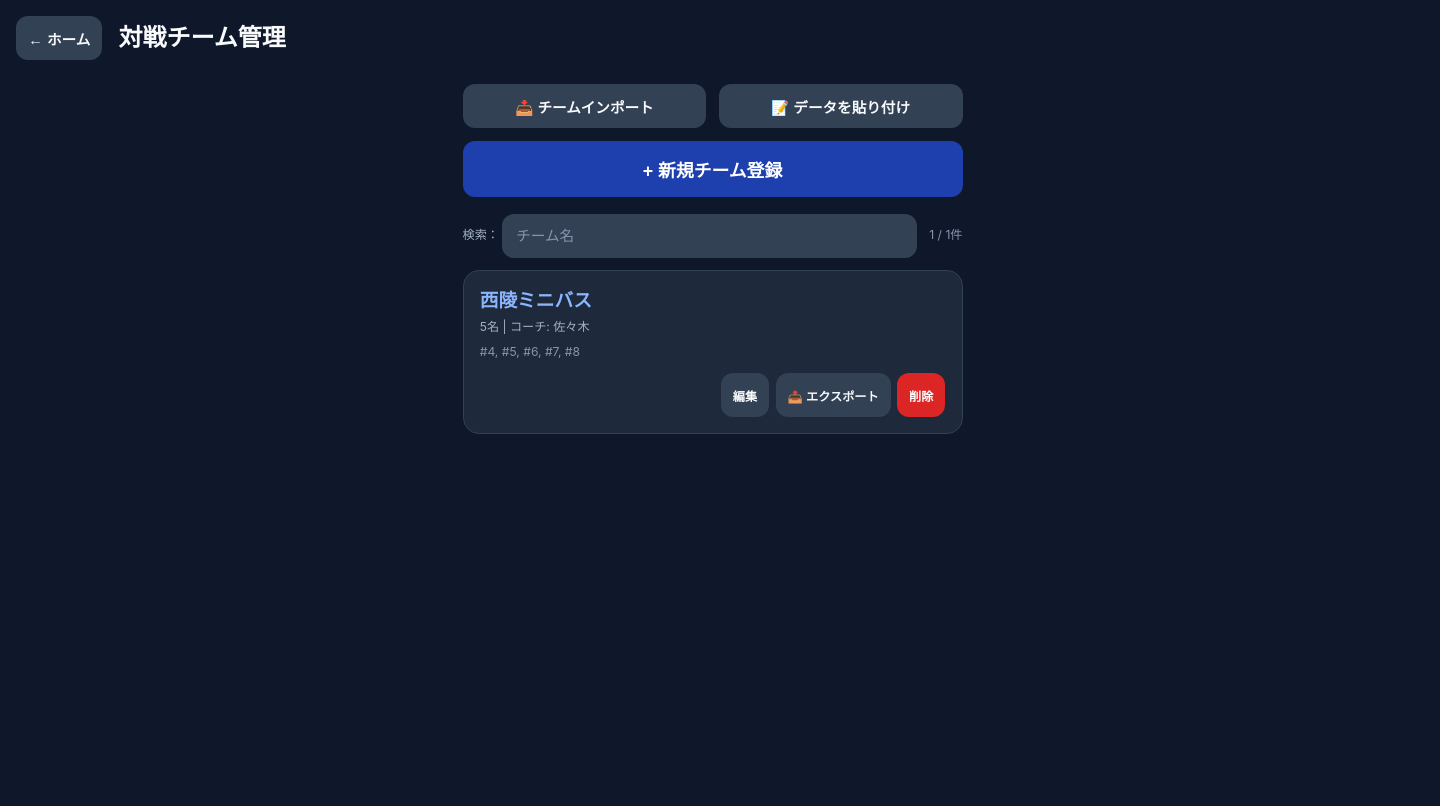
OpponentManager: 保存時の検証 › 条件を満たせば保存され、一覧に戻る
The image size is (1440, 806).
Click the button "編集" at (745, 395), box [721,373,769,417]
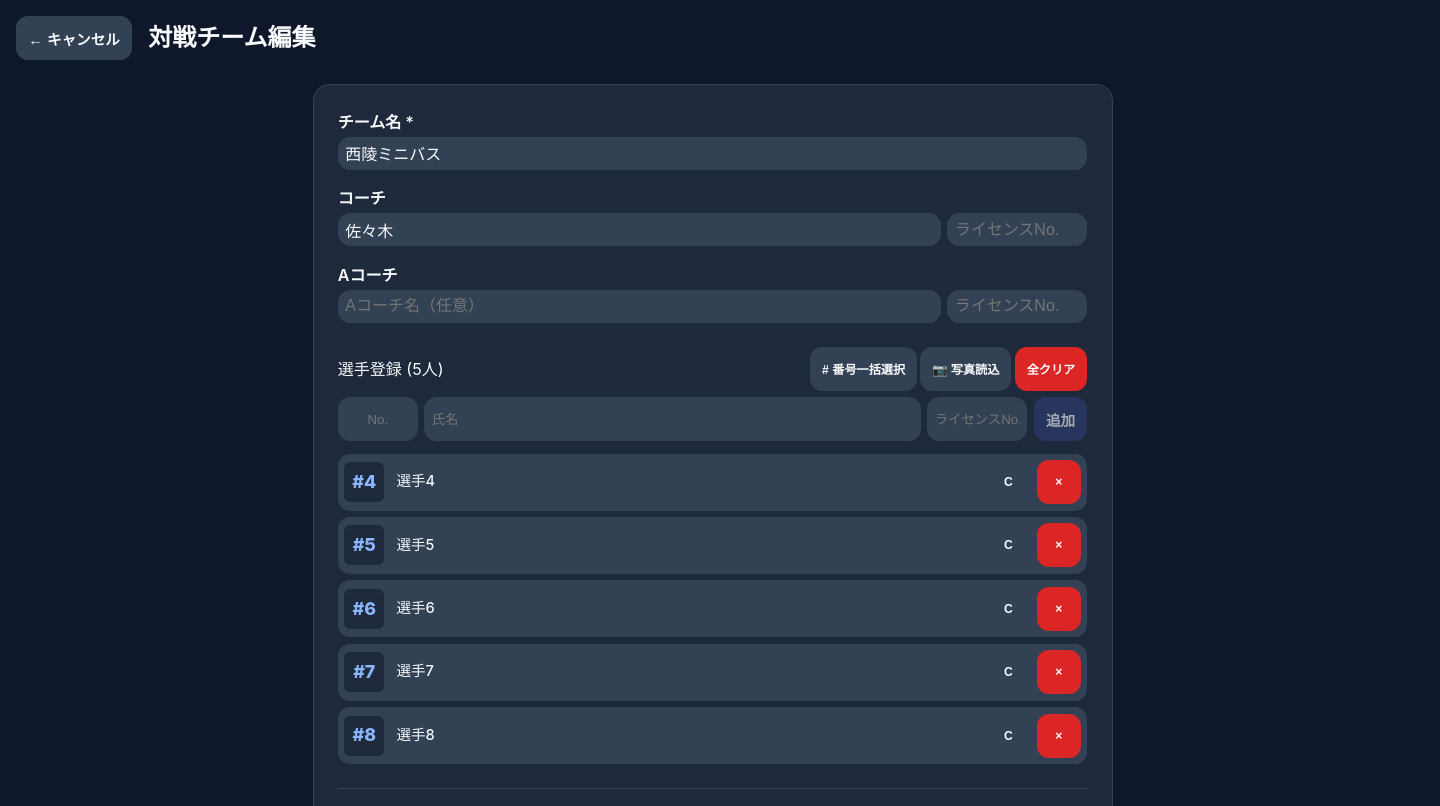
Replace the text in the field labelled "チーム名 *" with "西陵ミニバスB" at (712, 153), box [338,137,1087,170]
(page scrolled)
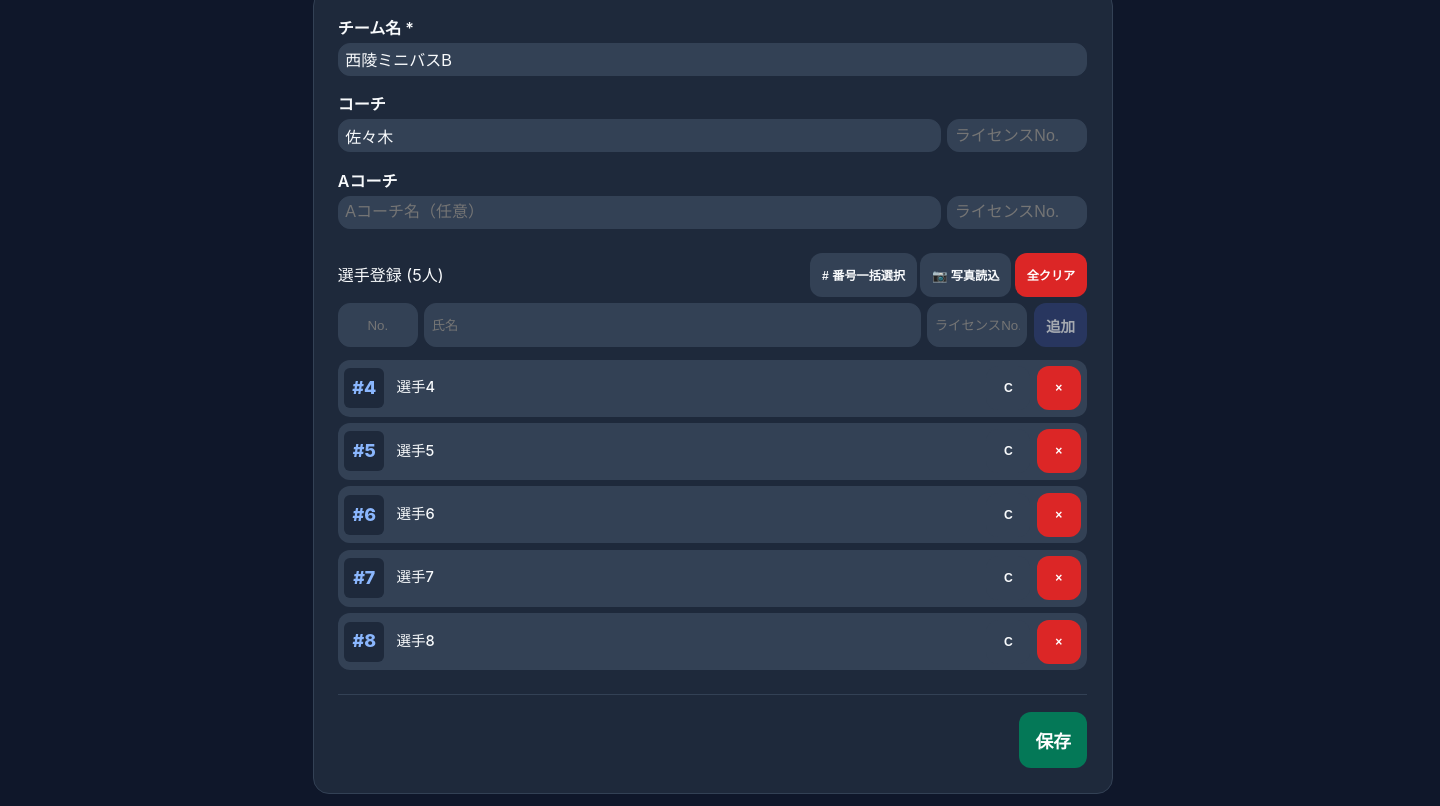
Click the button "保存" at (1053, 740), box [1019,712,1087,768]
(page scrolled)
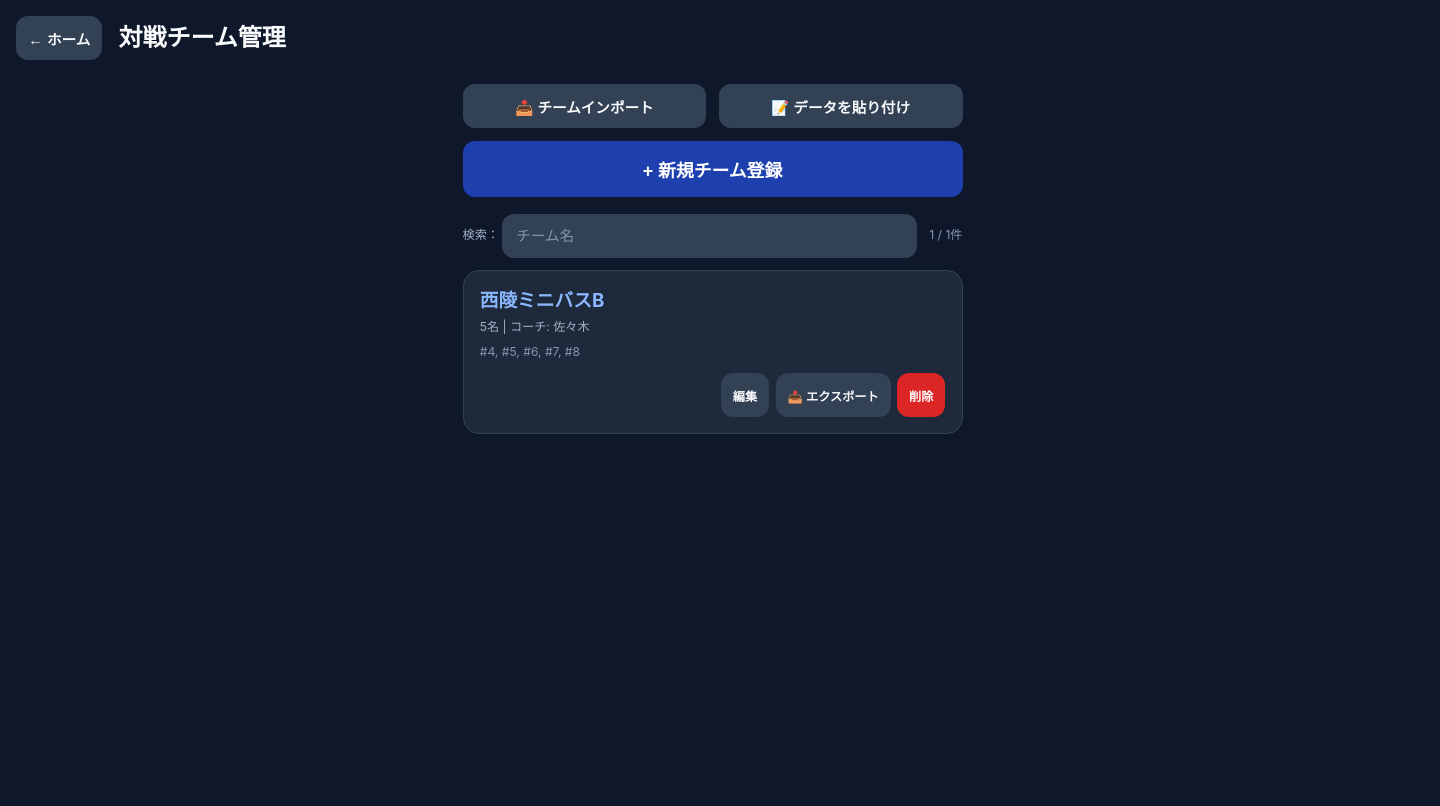
Expected: the heading "西陵ミニバスB" is shown, [480,289,604,312]
Expected: the button "+ 新規チーム登録" is shown, [462,141,962,197]
